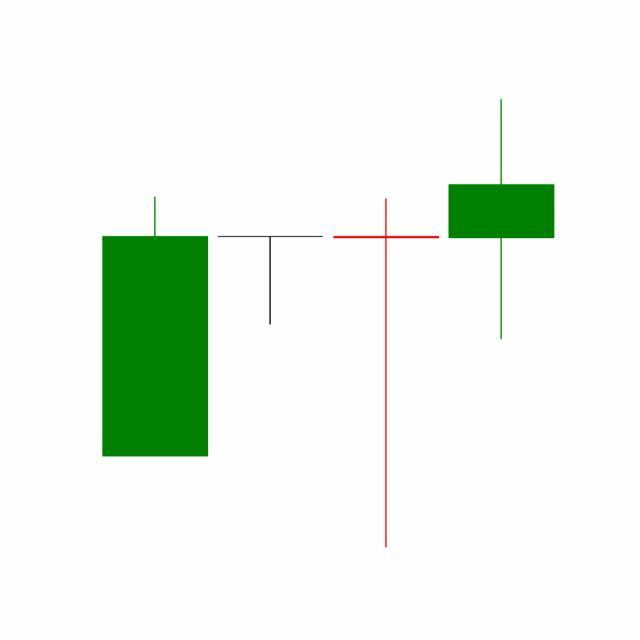Spinning Top: (329, 195, 445, 552)
